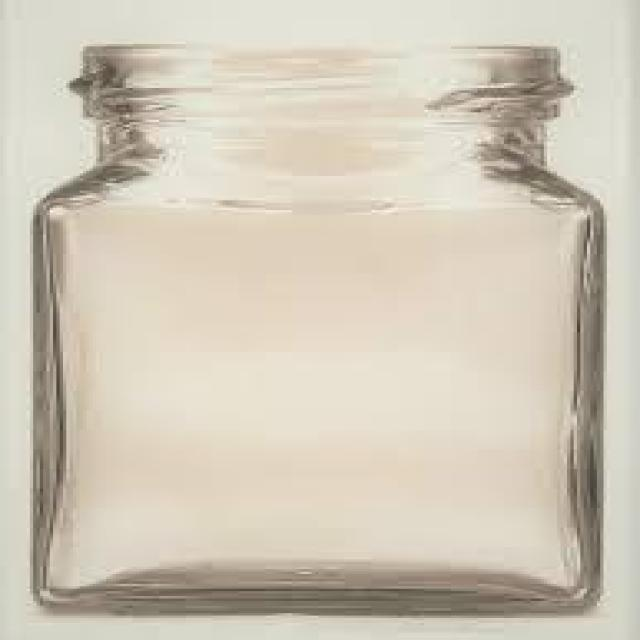Glass: (29, 39, 608, 618)
